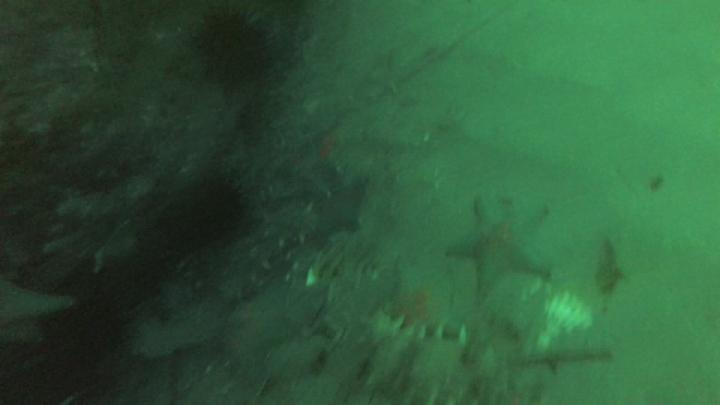echinus: (201, 22, 273, 88), (168, 184, 242, 248)
holothurian: (369, 313, 534, 405), (222, 204, 317, 303), (319, 260, 400, 336)
scallop: (537, 286, 603, 353)
starfish: (455, 190, 553, 285), (311, 178, 365, 245)
